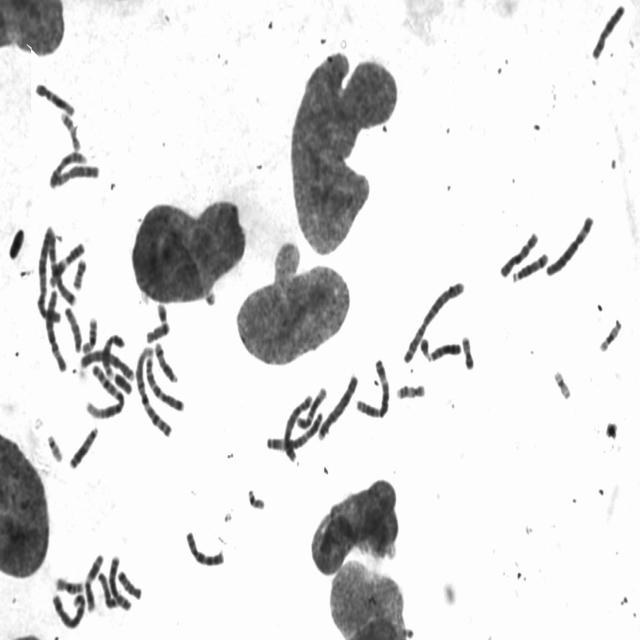A1: (132, 340, 175, 439), (82, 359, 127, 420)
A2: (400, 276, 467, 365), (34, 221, 62, 325)
A3: (264, 407, 325, 453), (352, 353, 392, 420)
B4: (315, 368, 359, 442), (77, 345, 137, 382)
B5: (281, 390, 314, 462), (48, 587, 87, 630)
C10: (497, 226, 540, 279), (182, 525, 226, 569)
C11: (46, 237, 86, 289), (82, 548, 106, 613)
C12: (32, 77, 77, 117), (294, 381, 328, 430)
C6: (543, 210, 596, 277), (43, 283, 69, 373)
C7: (42, 222, 78, 308), (142, 348, 186, 414)
C8: (46, 158, 102, 189), (106, 550, 133, 612)
C9: (47, 146, 88, 190), (100, 330, 129, 384)
D13: (66, 421, 100, 470), (425, 336, 463, 362)
D14: (509, 247, 550, 283), (151, 336, 179, 384)
D15: (62, 301, 83, 354), (95, 568, 118, 610)
E16: (78, 311, 100, 354), (51, 571, 86, 594)
E17: (58, 106, 82, 152), (393, 378, 427, 401)
E18: (115, 566, 143, 600), (143, 316, 172, 344)
F19: (596, 314, 624, 354), (550, 364, 572, 401)
F20: (459, 329, 476, 371), (70, 253, 88, 291)
G21: (417, 331, 432, 361), (154, 298, 170, 325)
G22: (44, 429, 64, 464), (244, 484, 266, 511)
X: (589, 0, 627, 61)
Y: (111, 366, 133, 396)
